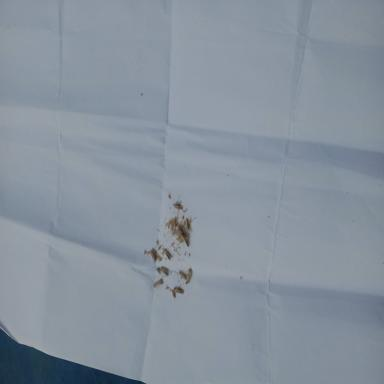pbw: (172, 203, 184, 212), (164, 248, 172, 260), (181, 234, 189, 246), (186, 268, 192, 284), (153, 278, 163, 287), (160, 266, 168, 276), (152, 249, 159, 259), (174, 287, 184, 294), (178, 271, 186, 279), (184, 219, 188, 230), (172, 289, 176, 298)
